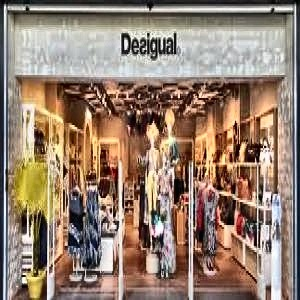desigual: (122, 14, 240, 40)
